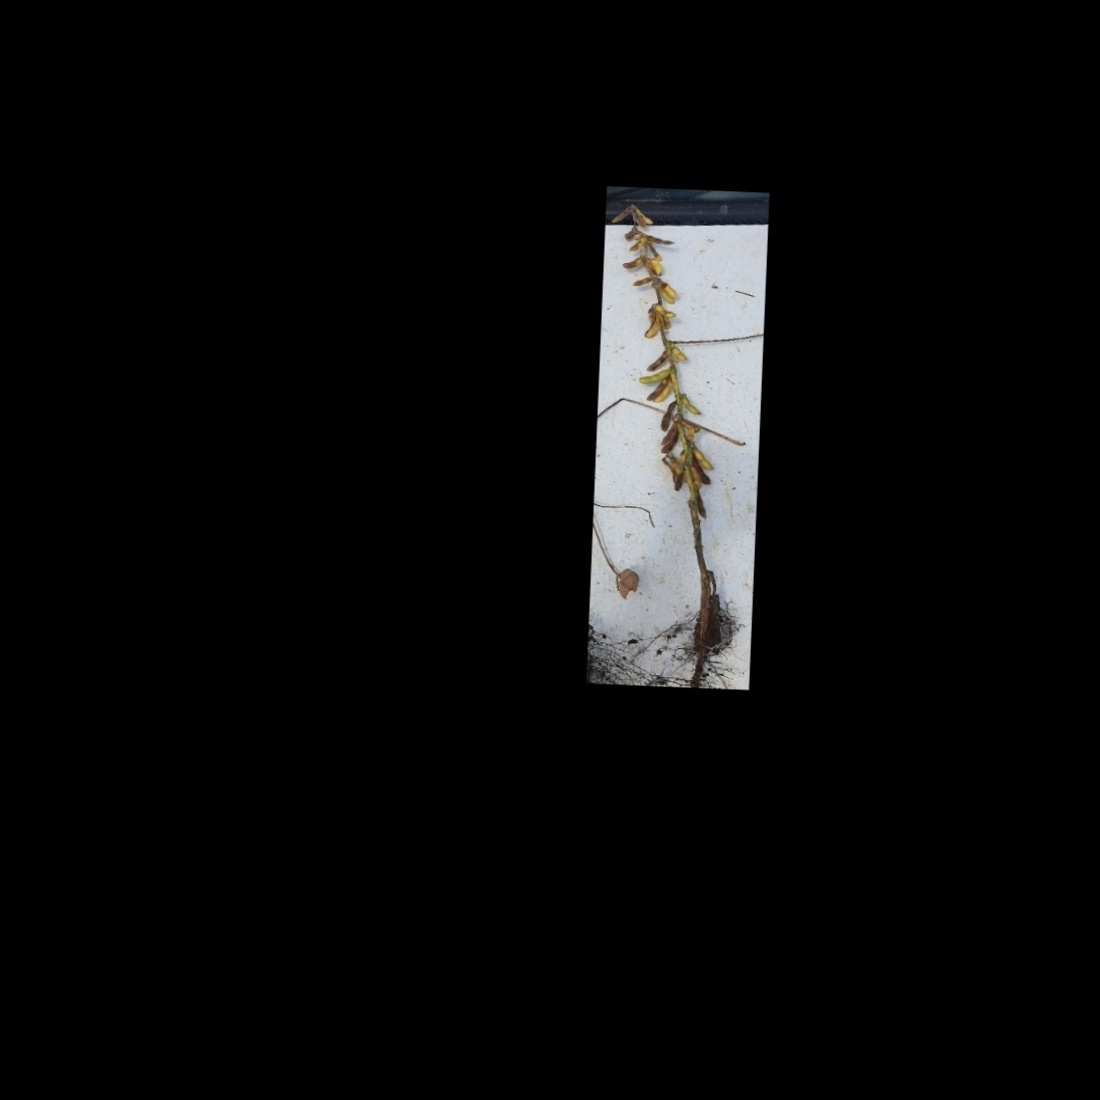pod: (677, 389, 706, 418), (655, 399, 677, 434), (637, 364, 670, 386), (692, 445, 718, 472), (645, 348, 668, 372), (693, 490, 711, 520), (608, 202, 632, 226), (668, 340, 690, 363), (642, 232, 675, 246), (618, 254, 644, 271), (644, 244, 665, 263), (630, 275, 654, 289)
soy: (590, 197, 764, 670)
